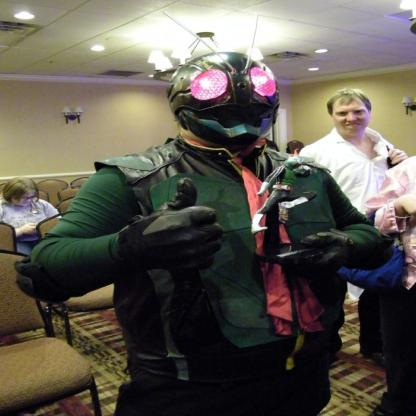Helmet: (163, 52, 291, 146)
